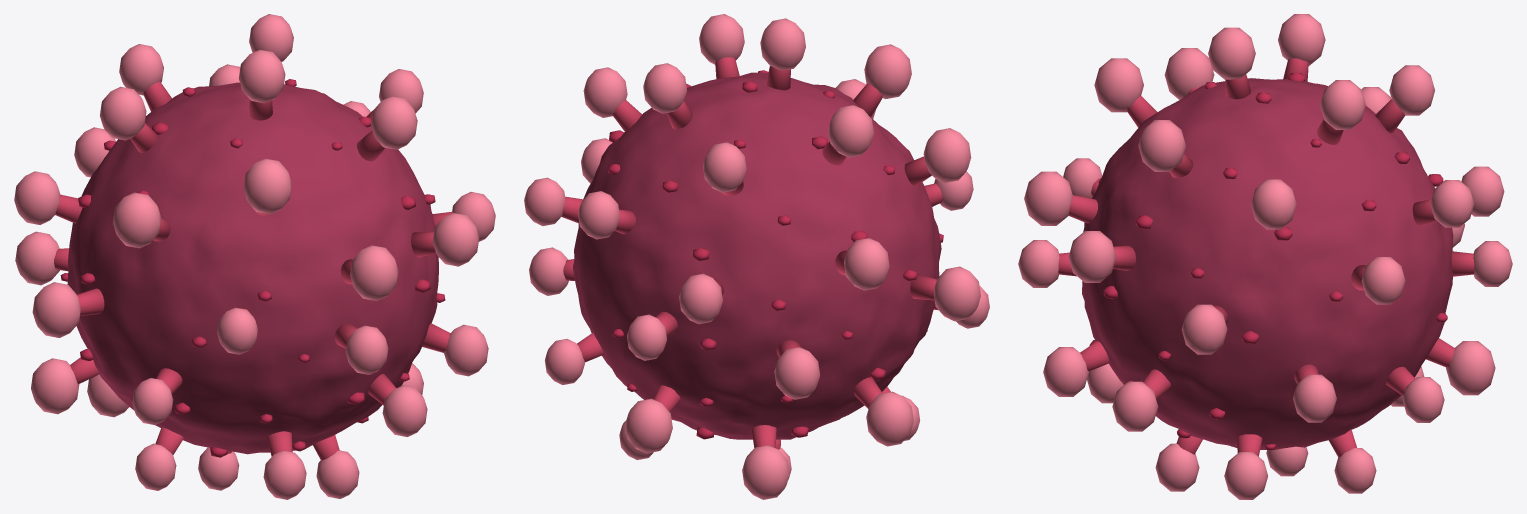
File: VirusBall.fbx
The picture shows the model from 3 angles, left to right: view 1: azimuth 30°, elevation 25°; view 2: azimuth 150°, elevation 25°; view 3: azimuth 270°, elevation 25°; orthographic projection. The views are drawn at different scales.
Visible parts, largest first — view 1: Virus_Core, Spike_Protein_28, Spike_Protein_23, Spike_Protein_18, Spike_Protein_33, Spike_Protein_13, Spike_Protein_30, Spike_Protein_25, Spike_Protein_15, Spike_Protein_20, Spike_Protein_10, Spike_Protein_05 (+20 smaller); view 2: Virus_Core, Spike_Protein_08, Spike_Protein_13, Spike_Protein_03, Spike_Protein_18, Spike_Protein_23, Spike_Protein_28, Spike_Protein_05, Spike_Protein_15, Spike_Protein_10, Spike_Protein_20, Spike_Protein_25 (+17 smaller); view 3: Virus_Core, Spike_Protein_33, Spike_Protein_28, Spike_Protein_03, Spike_Protein_20, Spike_Protein_25, Spike_Protein_30, Spike_Protein_15, Spike_Protein_17, Spike_Protein_22, Spike_Protein_27, Spike_Protein_12 (+20 smaller).
Part boxes in pixels (x1,y1,x2,y2): Virus_Core: (67,82,438,454); Spike_Protein_28: (243,158,291,214); Spike_Protein_23: (113,192,161,248); Spike_Protein_18: (32,282,80,337); Spike_Protein_33: (350,245,398,300); Spike_Protein_13: (31,358,79,414); Spike_Protein_30: (432,213,479,266); Spike_Protein_25: (371,96,417,149); Spike_Protein_15: (100,86,146,140); Spike_Protein_20: (238,49,285,103); Spike_Protein_10: (14,171,60,224); Spike_Protein_05: (15,231,59,285); Virus_Core: (573,72,941,439); Spike_Protein_08: (742,445,789,499); Spike_Protein_13: (866,391,913,446); Spike_Protein_03: (625,398,672,453); Spike_Protein_18: (934,266,980,321); Spike_Protein_23: (923,128,971,182); Spike_Protein_28: (864,44,911,99); Spike_Protein_05: (774,347,820,399); Spike_Protein_15: (828,105,873,157); Spike_Protein_10: (844,238,889,290); Spike_Protein_20: (760,18,805,70); Spike_Protein_25: (699,14,744,64); Virus_Core: (1082,78,1453,449); Spike_Protein_33: (1024,171,1073,225); Spike_Protein_28: (1094,58,1143,112); Spike_Protein_03: (1446,341,1495,395); Spike_Protein_20: (1208,27,1255,79); Spike_Protein_25: (1138,120,1185,171); Spike_Protein_30: (1068,231,1116,282); Spike_Protein_15: (1278,14,1325,65); Spike_Protein_17: (1251,179,1296,229); Spike_Protein_22: (1181,304,1227,354); Spike_Protein_27: (1112,381,1158,431); Spike_Protein_12: (1320,80,1365,129).
Bounding box in the file's own units: 559 × 567 × 558.
